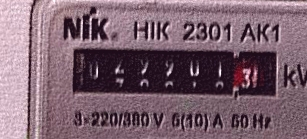0: (187, 53, 202, 79), (86, 58, 101, 80)
1: (214, 54, 226, 78)
2: (112, 53, 127, 75)
3: (239, 66, 254, 90)
9: (163, 55, 175, 78), (138, 54, 150, 75)
screen: (64, 40, 286, 106)
